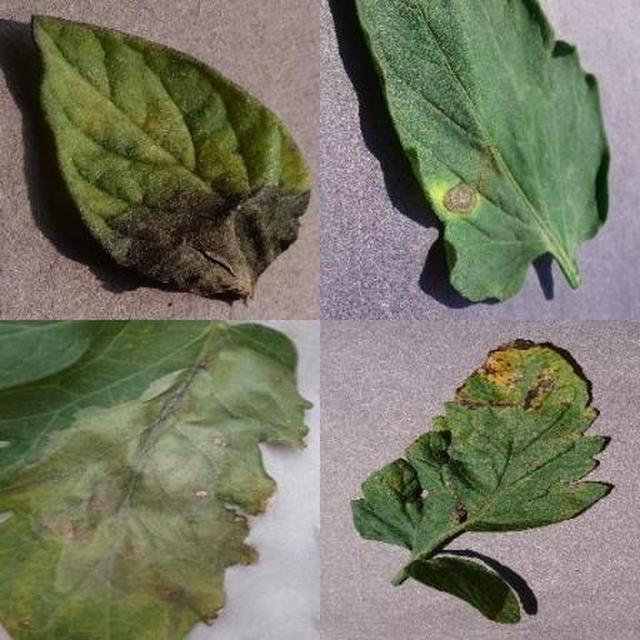Late Blight Leaf: (224, 218, 640, 640)
